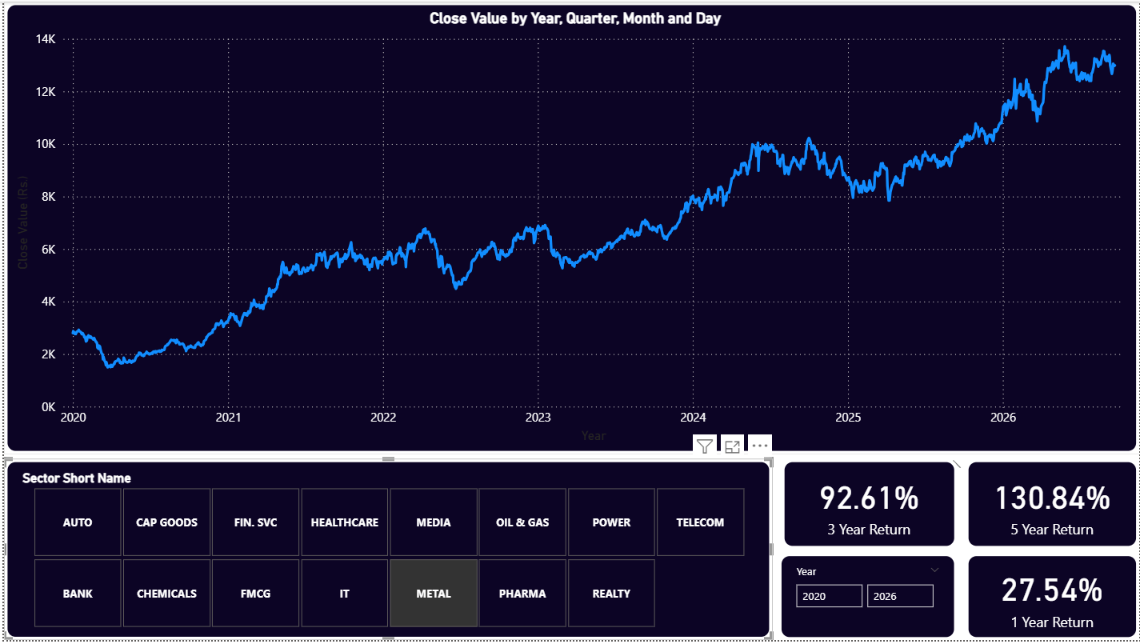

Layout of this report page (visuals, bound fields, positions):
{"tool":"powerbi","page":{"name":"Page 2","canvas":[1280,720],"ordinal":1},"visuals":[{"type":"lineChart","title":" Close Value by Year, Quarter, Month and Day","fields":{"Category":["Date Table.Date.Variation.Date Hierarchy.Year","Date Table.Date.Variation.Date Hierarchy.Quarter","Date Table.Date.Variation.Date Hierarchy.Month","Date Table.Date.Variation.Date Hierarchy.Day"],"Y":["Max(Combine Data.Close)"]},"box":[0,0,1280.2,510.5],"z":0},{"type":"slicer","fields":{"Values":["Combine Data.Sector Short Name"]},"box":[0,515.1,866.3,204.7],"z":1000},{"type":"slicer","fields":{"Values":["Date Table.Year"]},"box":[872.1,620.9,202.3,98.8],"z":1001},{"type":"card","fields":{"Values":["Combine Data.3 Year Return"]},"box":[875.6,514.5,198.8,102.3],"z":1002},{"type":"card","fields":{"Values":["Combine Data.5 Year Return"]},"box":[1083.7,514.5,196.5,102.3],"z":1003},{"type":"card","fields":{"Values":["Combine Data.1 Year Return"]},"box":[1083.7,620.9,196.5,98.8],"z":1004}]}

Visuals, with their boxes in screenshot pixels (x1, y1, x2, y2), scaled from the page's 1280x720 canvas onto the 1140x642 screenshot:
" Close Value by Year, Quarter, Month and Day" lineChart: x1=0, y1=0, x2=1139, y2=455
slicer - Combine Data.Sector Short Name: x1=0, y1=459, x2=772, y2=641
slicer - Date Table.Year: x1=777, y1=554, x2=957, y2=641
card - Combine Data.3 Year Return: x1=780, y1=459, x2=957, y2=550
card - Combine Data.5 Year Return: x1=965, y1=459, x2=1139, y2=550
card - Combine Data.1 Year Return: x1=965, y1=554, x2=1139, y2=641
